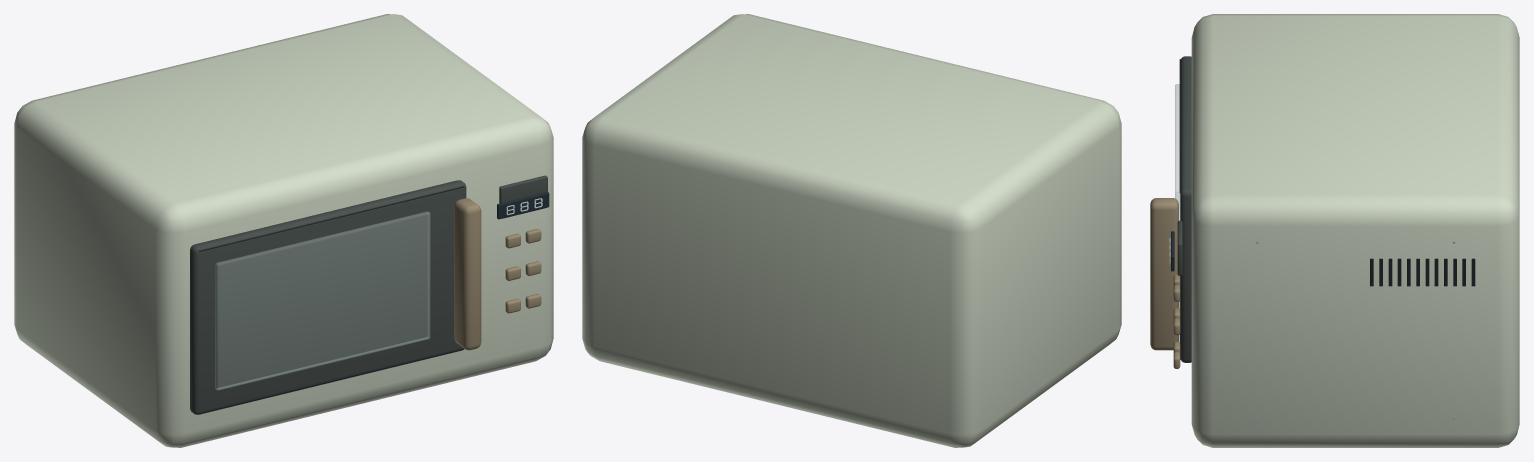
File: countertop-microwave.glb
The picture shows the model from 3 angles, left to right: view 1: azimuth 30°, elevation 25°; view 2: azimuth 150°, elevation 25°; view 3: azimuth 270°, elevation 25°; orthographic projection. The views are drawn at different scales.
Parts seen in each view (by area): view 1: countertop-microwave; view 2: countertop-microwave; view 3: countertop-microwave.
Part boxes in pixels (box(x1,y1,x2,y2)): countertop-microwave: box(14, 14, 553, 447); countertop-microwave: box(582, 14, 1121, 447); countertop-microwave: box(1150, 14, 1519, 447).
Size of the model in its own units: 0.51 by 0.3 by 0.4.
